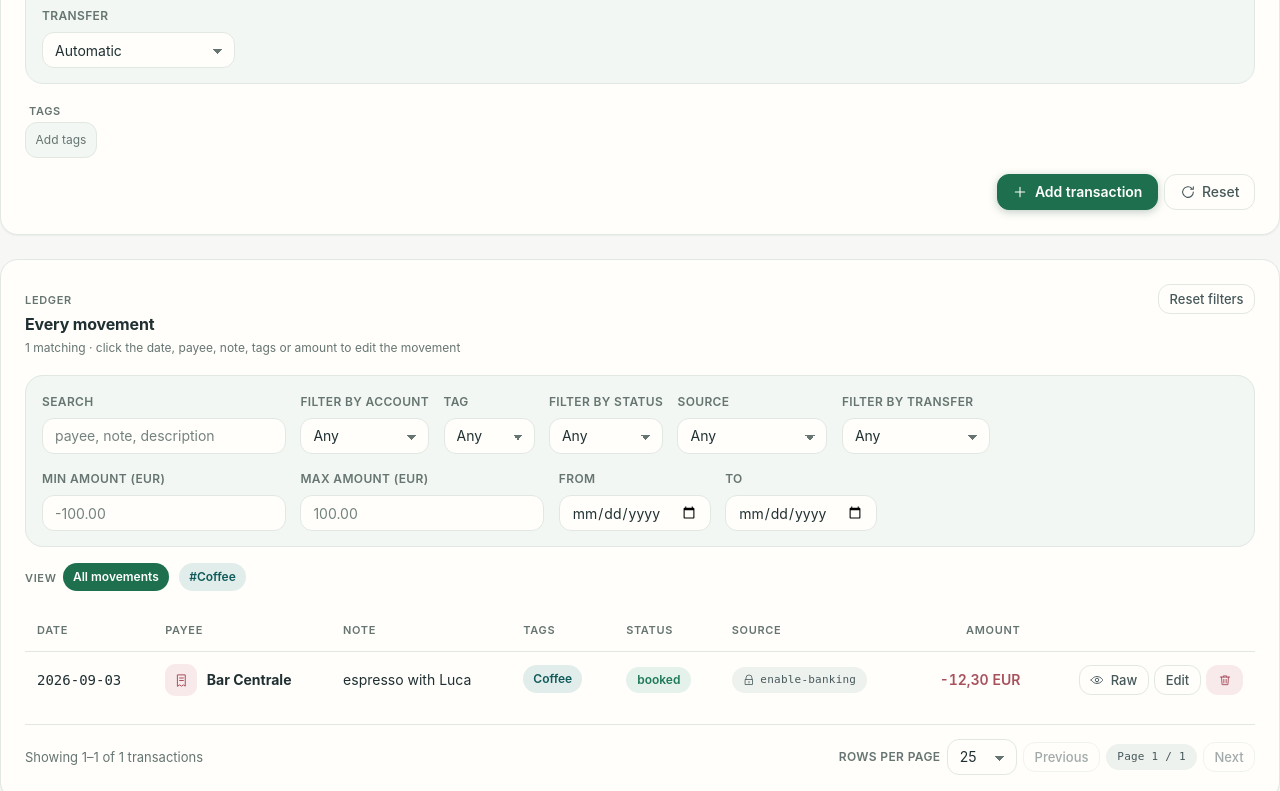
Test: transactions view › shows the raw provider record behind a row as tables
(page scrolled)
Expected: the text "Bar Centrale" is shown, 207,669 -> 292,691
What coordinates should you click on to do the following:
click the button "Raw"
I would click on:
 (1114, 680)
Its box is 1079,665 -> 1149,695.
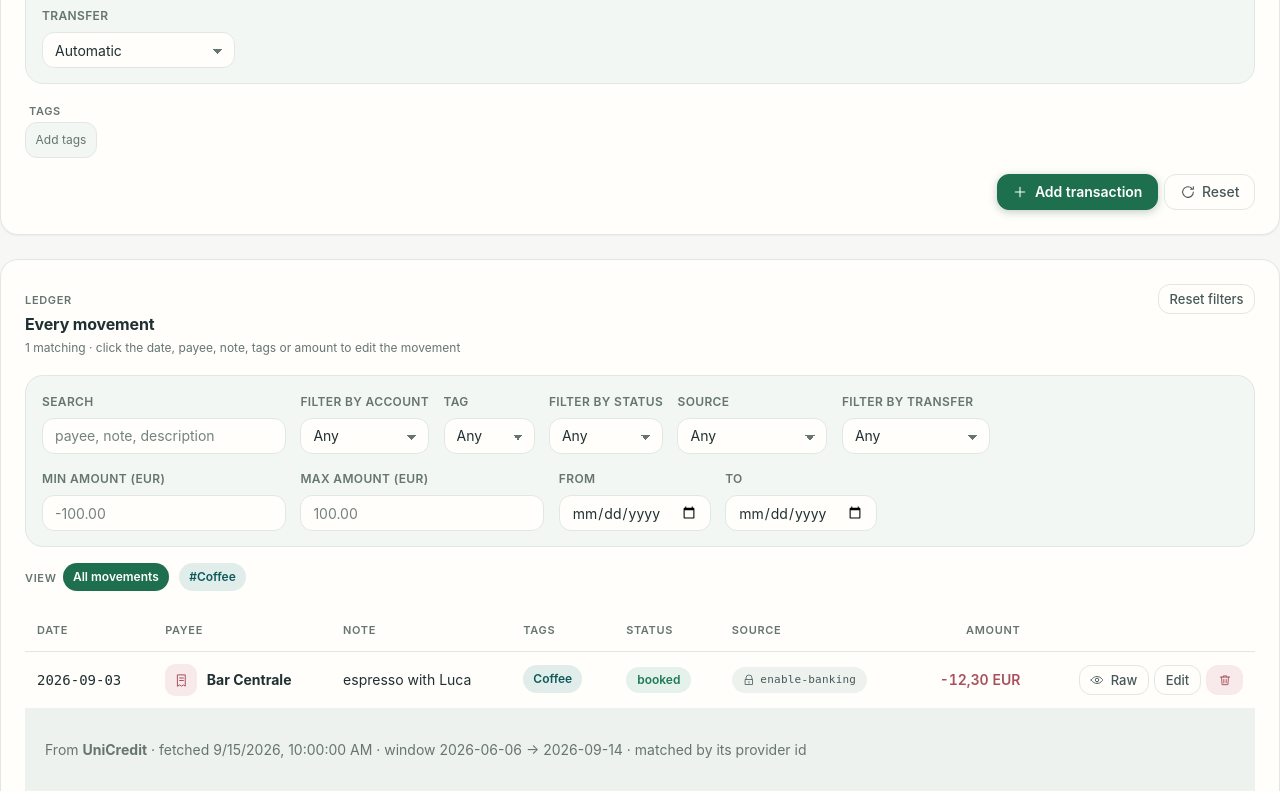
Expected: the text "UniCredit" is shown, 82,741 -> 147,758
Expected: the text "matched by" shows "its provider id", 716,741 -> 807,758
